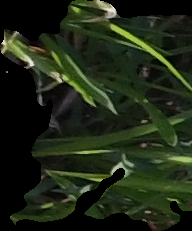grass: (1, 1, 191, 230)
